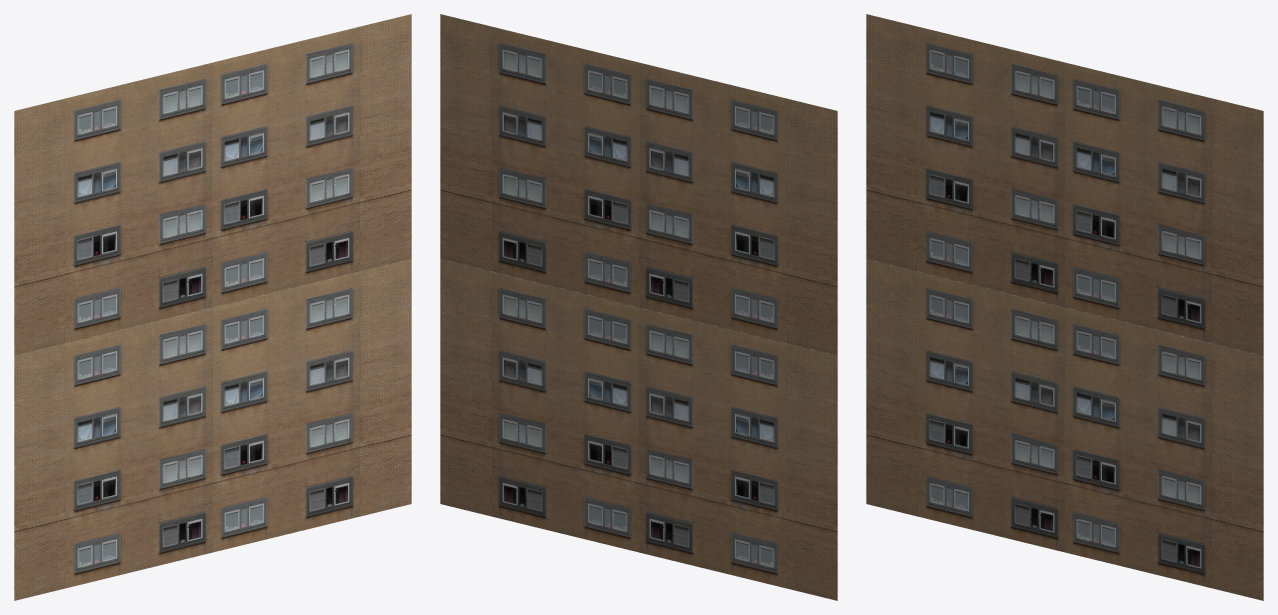
File: predio6.fbx
3 renders of one model, left to right at view 1: azimuth 30°, elevation 25°; view 2: azimuth 150°, elevation 25°; view 3: azimuth 330°, elevation 25°, orthographic.
Parts seen in each view (by area): view 1: TexturesCom_HighRiseResidential0086_1_M; view 2: TexturesCom_HighRiseResidential0086_1_M; view 3: TexturesCom_HighRiseResidential0086_1_M.
Boxes of the visible parts, box(x1,y1,x2,y2) form: TexturesCom_HighRiseResidential0086_1_M: box(14, 14, 411, 600); TexturesCom_HighRiseResidential0086_1_M: box(440, 14, 837, 600); TexturesCom_HighRiseResidential0086_1_M: box(866, 14, 1263, 600).
Bounding box in the file's own units: 2523 × 2972 × 6.5e-05.
